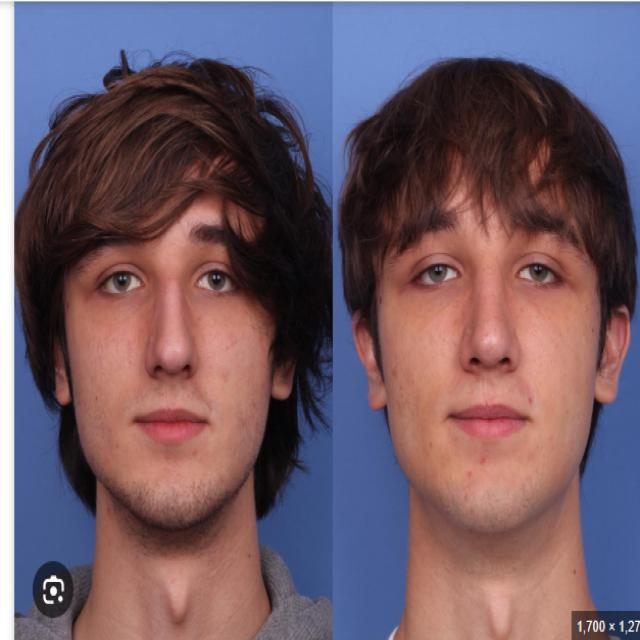face_no_mask: (347, 159, 634, 548), (40, 193, 300, 522)
